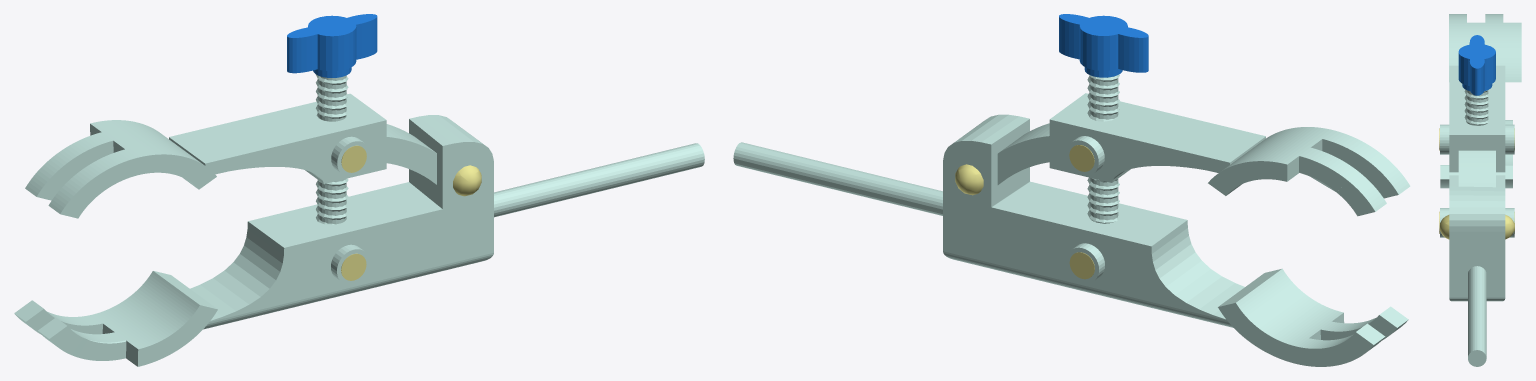
The model's file is clamp.fbx.
3 views of the same model, side by side, from view 1: azimuth 30°, elevation 25°; view 2: azimuth 150°, elevation 25°; view 3: azimuth 270°, elevation 25° (orthographic). The views are drawn at different scales.
Parts seen in each view (by area): view 1: shaft, connector, claw_1, clamp_spinner, screw; view 2: shaft, connector, claw_1, clamp_spinner, screw; view 3: connector, shaft, clamp_spinner, claw_1, screw.
Boxes of the visible parts, box(x1,y1,x2,y2) form: shaft: box(190, 115, 704, 329); connector: box(25, 93, 436, 218); claw_1: box(14, 271, 217, 366); clamp_spinner: box(287, 14, 377, 224); screw: box(453, 165, 481, 196); shaft: box(733, 114, 1244, 327); connector: box(997, 93, 1410, 216); claw_1: box(1218, 268, 1408, 366); clamp_spinner: box(1059, 14, 1148, 223); screw: box(955, 164, 983, 195); connector: box(1439, 14, 1521, 187); shaft: box(1439, 175, 1514, 366); clamp_spinner: box(1458, 35, 1495, 125); claw_1: box(1440, 120, 1512, 188); screw: box(1440, 215, 1514, 239).
Bounding box in the file's own units: 788 × 308 × 110.
